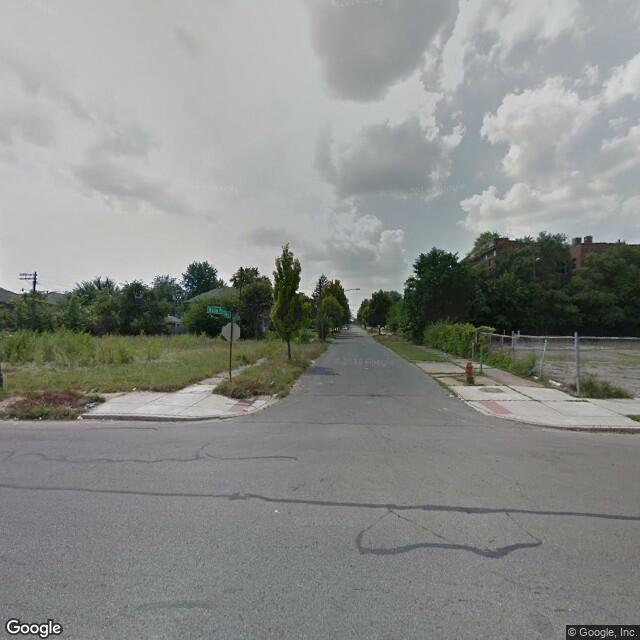litter: (266, 393, 282, 403), (83, 401, 98, 409), (70, 414, 84, 422), (129, 385, 135, 391)
